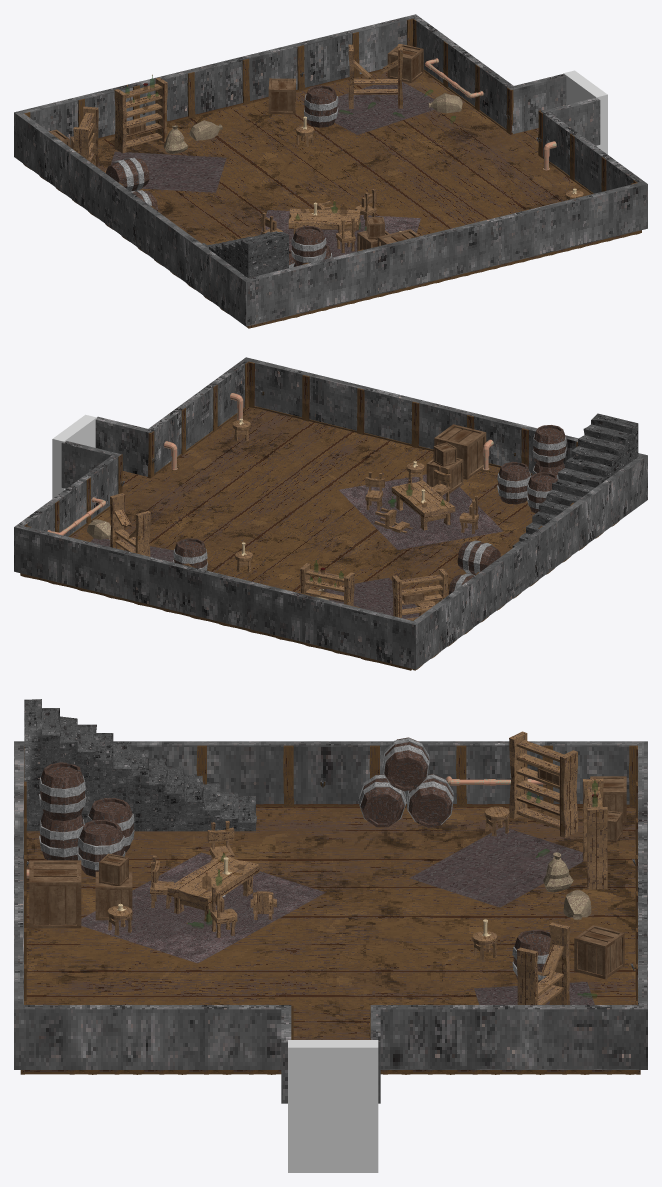
Rendered from Base_final_version.glb.
3 renders of one model, top to bottom at view 1: azimuth 30°, elevation 25°; view 2: azimuth 150°, elevation 25°; view 3: azimuth 270°, elevation 25°, orthographic. The views are drawn at different scales.
Visible parts, largest first — view 1: Walls, Floor, Dywan2, Dywan3, Szafka.000, Schody.000, Cube.029, Dywan, Cube.033, Cube.032, DungeonEntry, Stół (+12 smaller); view 2: Walls, Floor, Schody.000, Dywan, Cube.034, Stół, Szafka.002, Skrzynka.002, Dywan3, Szafka.001, Cube.033, DungeonEntry (+11 smaller); view 3: Floor, Walls, Schody.000, DungeonEntry, Dywan, Dywan3, Szafka.001, Skrzynka.002, Stół, Szafka.002, Cube.018, Cube.037 (+20 smaller).
Boxes of the visible parts, x1,y1,x2,y2 form: Walls: (14,14,647,326); Floor: (97,71,591,245); Dywan2: (334,82,434,134); Dywan3: (111,151,226,192); Szafka.000: (114,77,167,153); Schody.000: (202,231,288,277); Cube.029: (25,18,412,127); Dywan: (260,210,420,257); Cube.033: (412,18,637,191); Cube.032: (251,230,641,327); DungeonEntry: (563,70,607,154); Stół: (288,208,360,242); Walls: (14,357,647,669); Floor: (70,407,535,605); Schody.000: (512,413,638,547); Dywan: (338,474,503,549); Cube.034: (248,361,577,468); Stół: (391,480,455,530); Szafka.002: (110,493,150,556); Skrzynka.002: (434,424,486,479); Dywan3: (317,577,419,618); Szafka.001: (392,568,448,619); Cube.033: (24,361,248,532); DungeonEntry: (52,414,96,498); Floor: (26,807,635,1039); Walls: (14,741,647,1103); Schody.000: (24,699,256,831); DungeonEntry: (288,1040,378,1172); Dywan: (81,852,325,963); Dywan3: (409,826,583,907); Szafka.001: (509,731,577,837); Skrzynka.002: (29,860,81,928); Stół: (167,853,259,922); Szafka.002: (517,922,570,1004); Cube.018: (196,745,637,807); Cube.037: (25,1070,636,1074).
Size of the model in its own units: 29.44 by 7.53 by 25.6.
22 materials, 19 textured.
